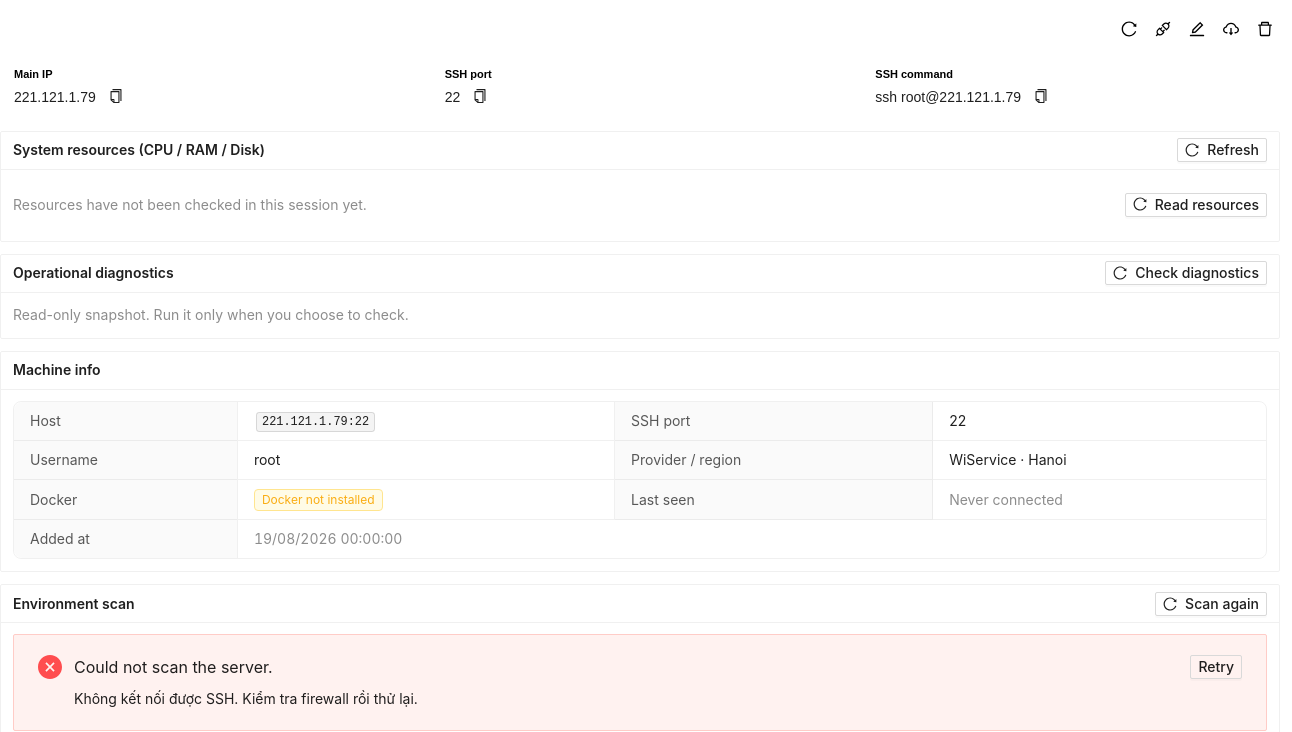
Scenario: VpsOverviewTab — card Environment scan › quét lỗi: Alert kèm thông báo từ main, Retry gọi lại và hiện kết quả mới
The width and height of the screenshot is (1292, 732).
expect the text "Could not scan the server." is shown: met, box [74,657,273,677]
expect the text "Không kết nối được SSH. Kiểm tra firewall rồi thử lại." is shown: met, box [74,690,418,708]
Click the button "Retry".
click(1216, 667)  # box [1190,655,1242,679]
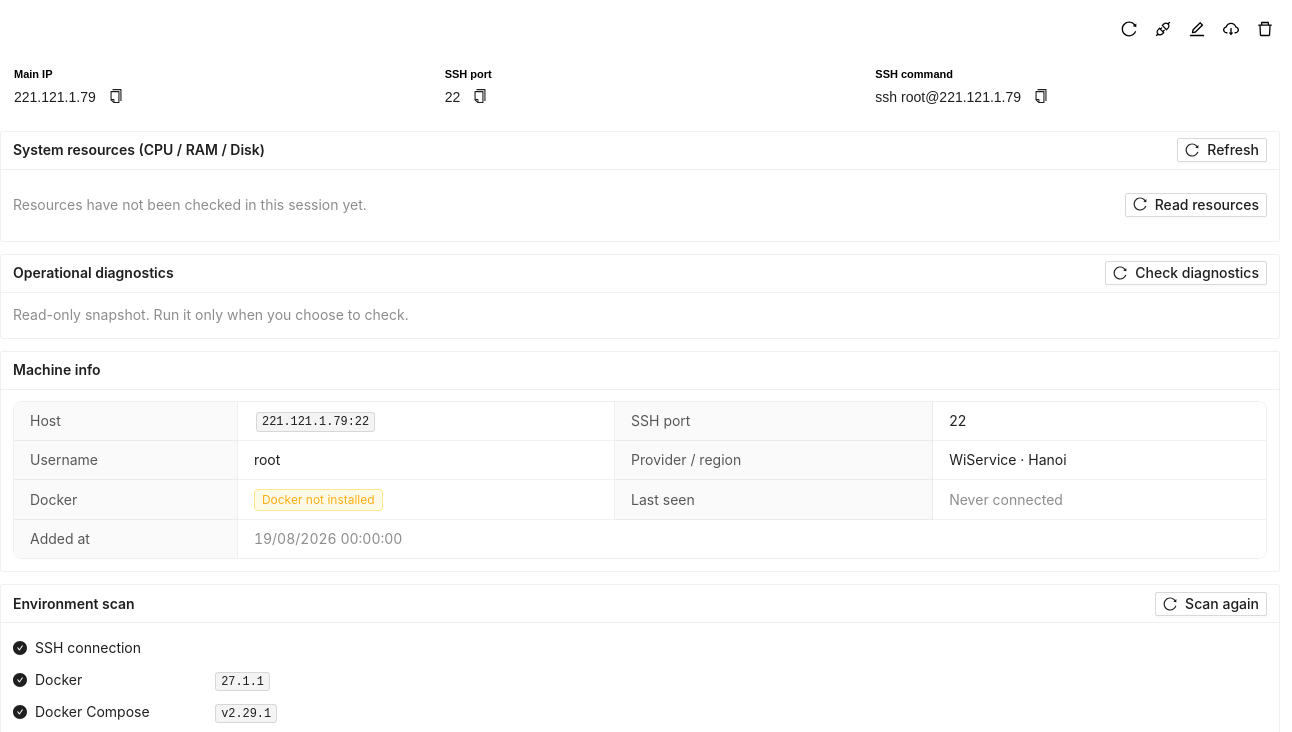
expect the element showing "SSH connection" is shown: met, box [13,639,141,656]
